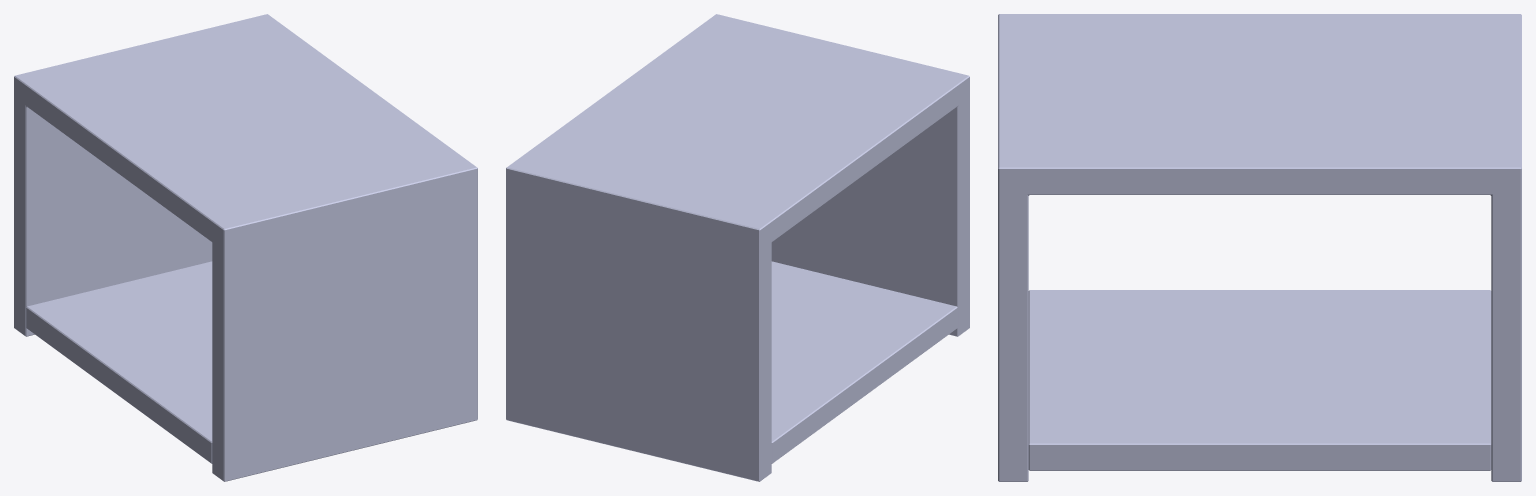
File: SM_stand_2.fbx
3 renders of one model, left to right at view 1: azimuth 30°, elevation 25°; view 2: azimuth 150°, elevation 25°; view 3: azimuth 270°, elevation 25°, orthographic. The views are drawn at different scales.
Visible parts, largest first — view 1: SM_stand_2; view 2: SM_stand_2; view 3: SM_stand_2.
Boxes of the visible parts, x1,y1,x2,y2 form: SM_stand_2: (14,14,477,481); SM_stand_2: (506,14,969,481); SM_stand_2: (998,14,1521,481).
Size of the model in its own units: 60 by 57 by 86.
